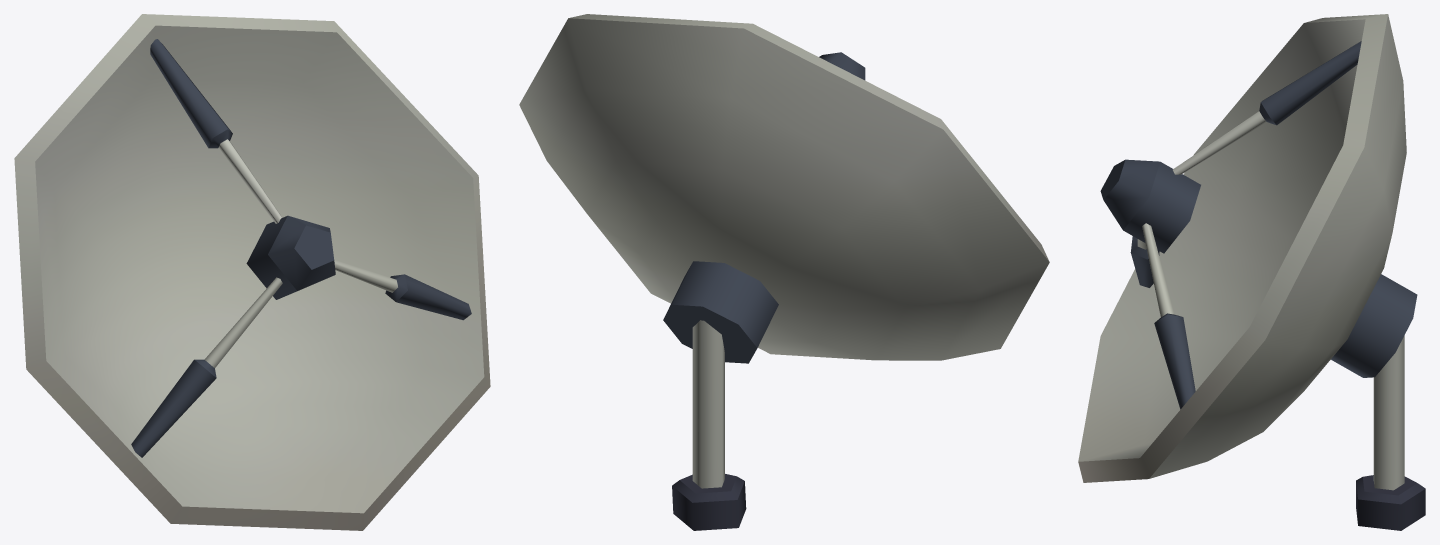
Rendered from Antene_2_F.fbx.
The picture shows the model from 3 angles, left to right: view 1: azimuth 30°, elevation 25°; view 2: azimuth 150°, elevation 25°; view 3: azimuth 270°, elevation 25°; orthographic projection. The views are drawn at different scales.
Parts seen in each view (by area): view 1: Antene_2_F_1; view 2: Antene_2_F_1, Antene_2_F_1h; view 3: Antene_2_F_1, Antene_2_F_1h.
Boxes of the visible parts, x1,y1,x2,y2 form: Antene_2_F_1: [14, 14, 490, 530]; Antene_2_F_1: [519, 14, 1049, 363]; Antene_2_F_1h: [672, 320, 746, 530]; Antene_2_F_1: [1078, 14, 1417, 482]; Antene_2_F_1h: [1356, 335, 1425, 530].
Size of the model in its own units: 1.42 by 1.34 by 0.8686.
